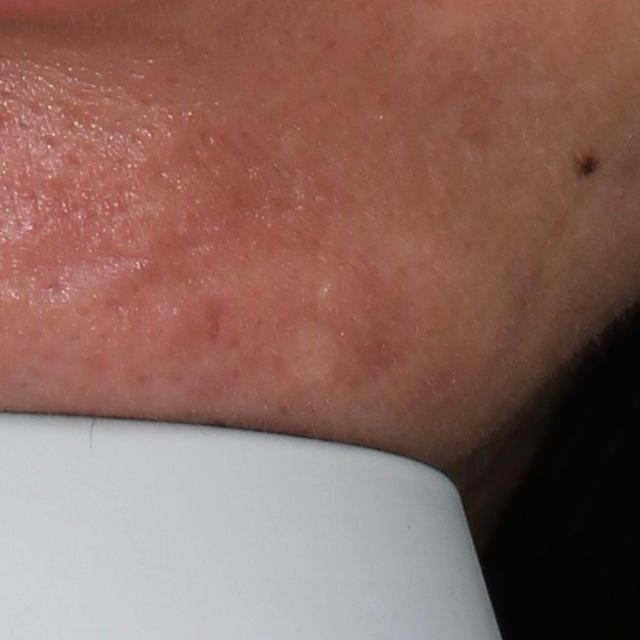nevus: (578, 155, 603, 184)
